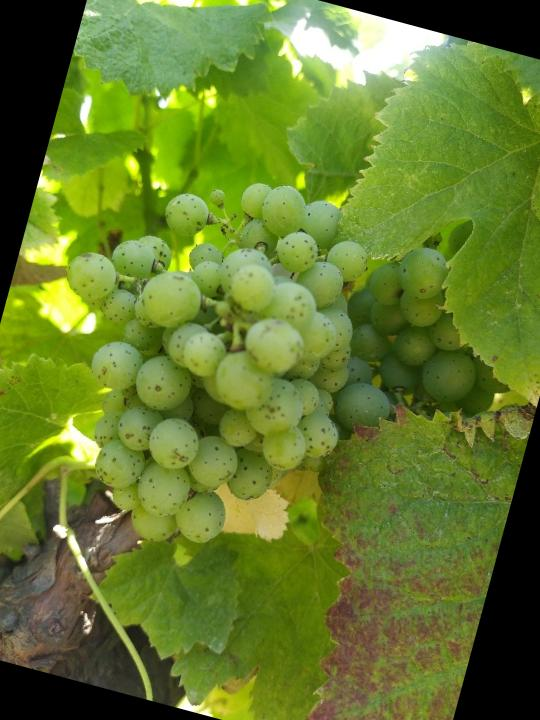grape: (3, 132, 448, 598)
